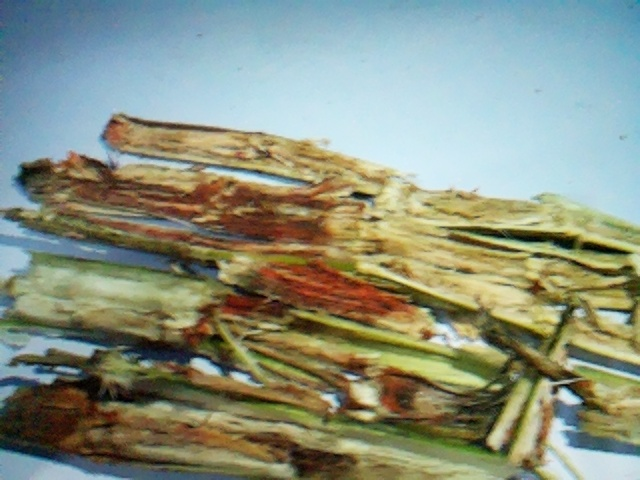Red-Rot: (7, 110, 628, 475)
